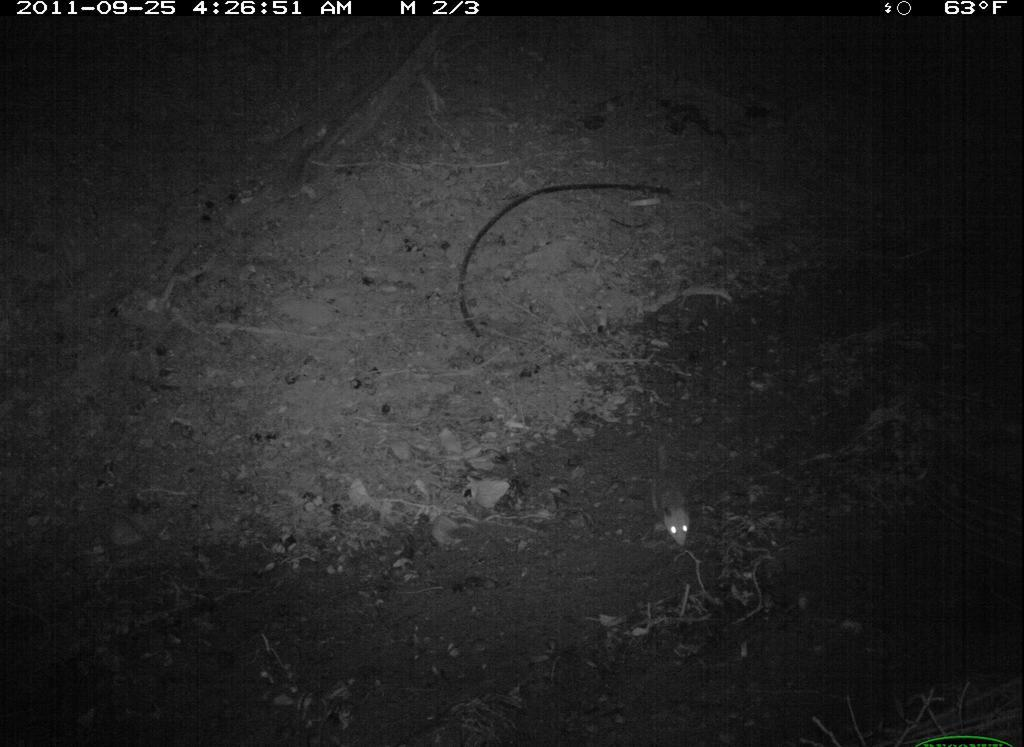opossum: (632, 452, 705, 557)
